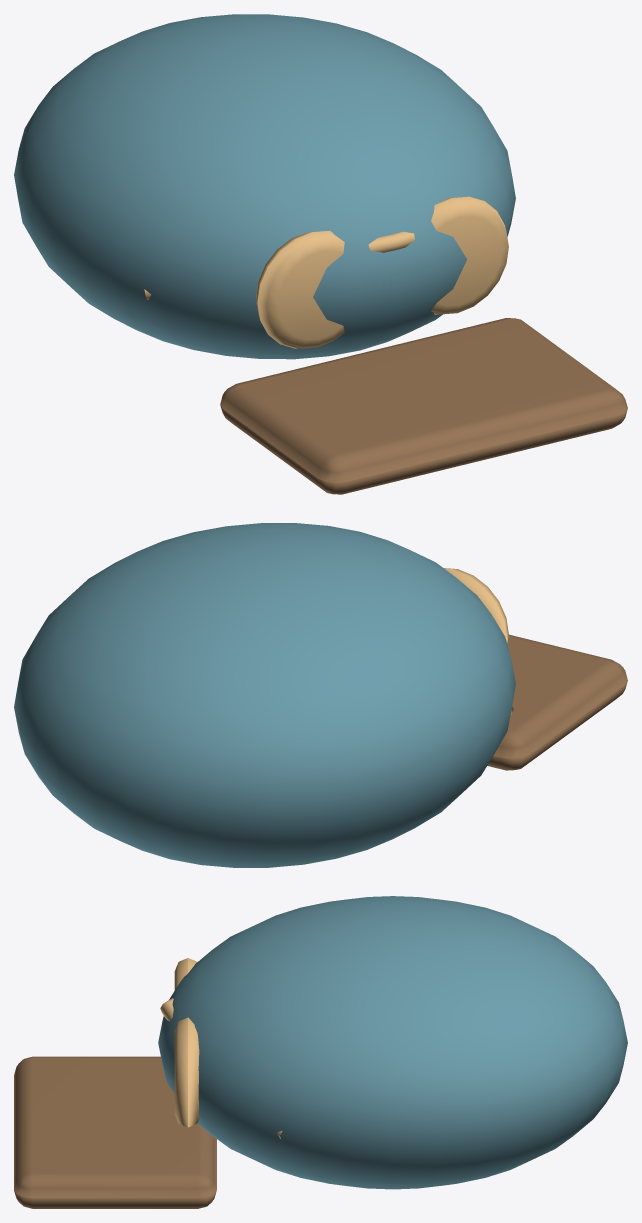
Rendered from hat_mechanic_soft.glb.
The picture shows the model from 3 angles, top to bottom: view 1: azimuth 30°, elevation 25°; view 2: azimuth 150°, elevation 25°; view 3: azimuth 270°, elevation 25°; orthographic projection. The views are drawn at different scales.
Parts seen in each view (by area): view 1: hat_mechanic_soft; view 2: hat_mechanic_soft; view 3: hat_mechanic_soft.
Part boxes in pixels (box(x1,y1,x2,y2)): hat_mechanic_soft: box(14, 14, 627, 494); hat_mechanic_soft: box(14, 523, 627, 867); hat_mechanic_soft: box(14, 896, 627, 1208).
Bounding box in the file's own units: 0.4 × 0.24 × 0.575.
